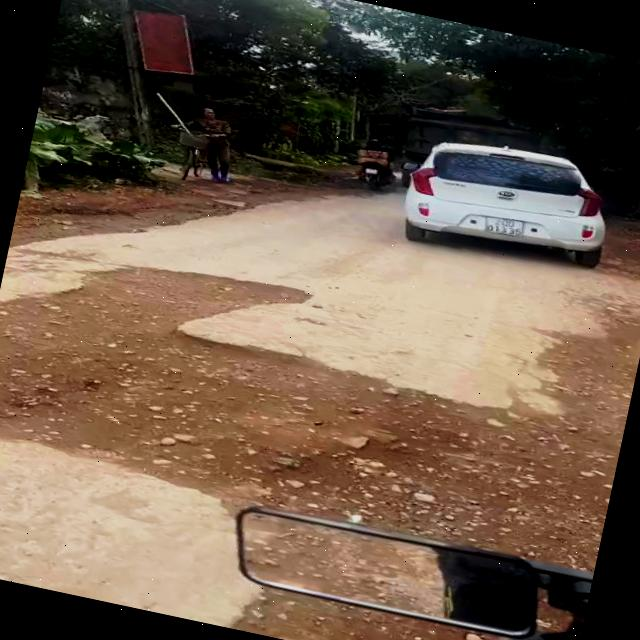pothole: (0, 226, 639, 589), (508, 272, 640, 459), (219, 574, 558, 640)
